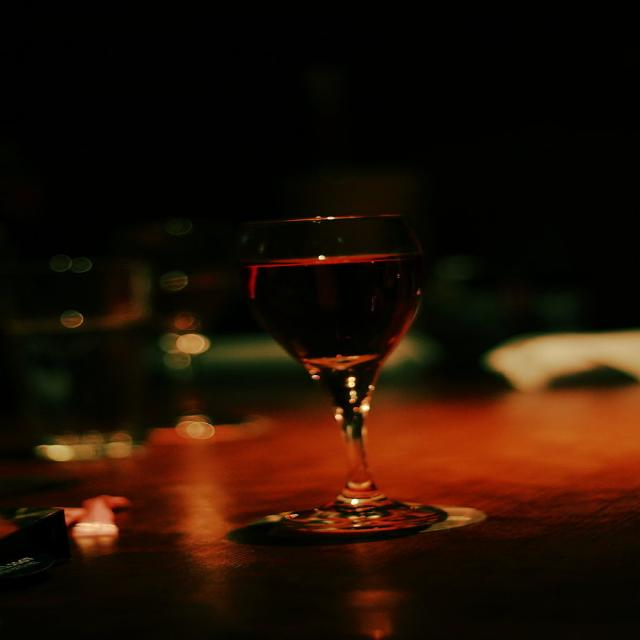Cup: (221, 180, 506, 583)
Table: (0, 368, 640, 640)
